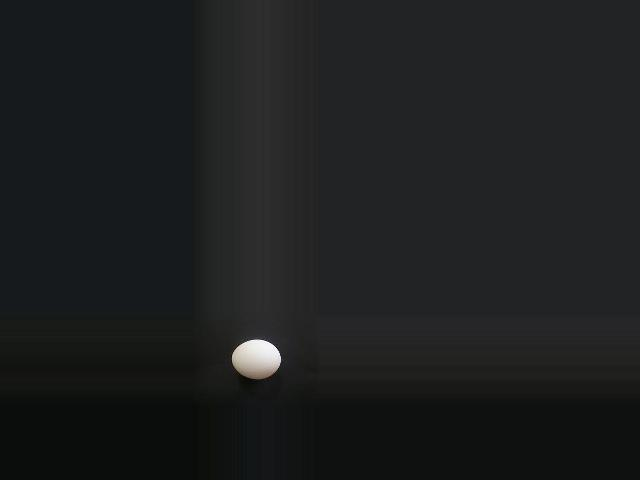egg: (230, 339, 279, 379)
